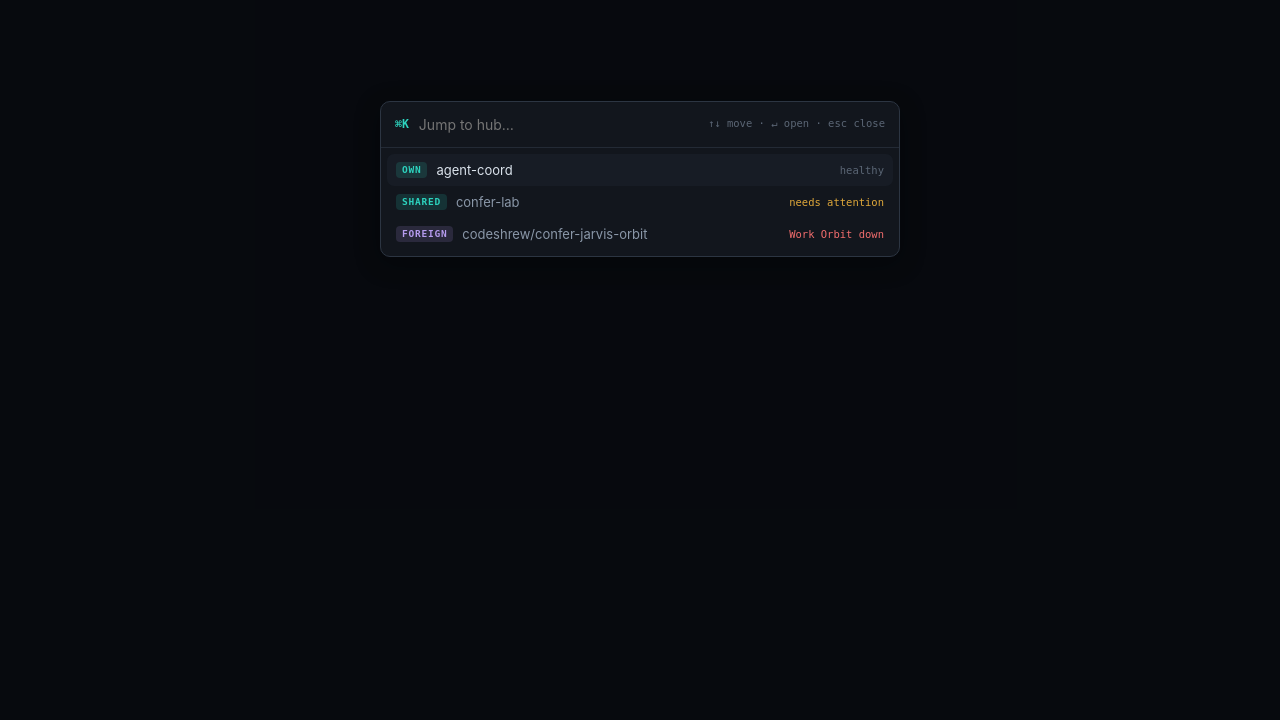
Test: CommandPalette › a query matching nothing shows the empty state, not a blank list
The width and height of the screenshot is (1280, 720).
Type "zzz-no-match" into the field with test id "palette-input" at {"x": 558, "y": 124}, box x1=419 y1=114 x2=698 y2=135
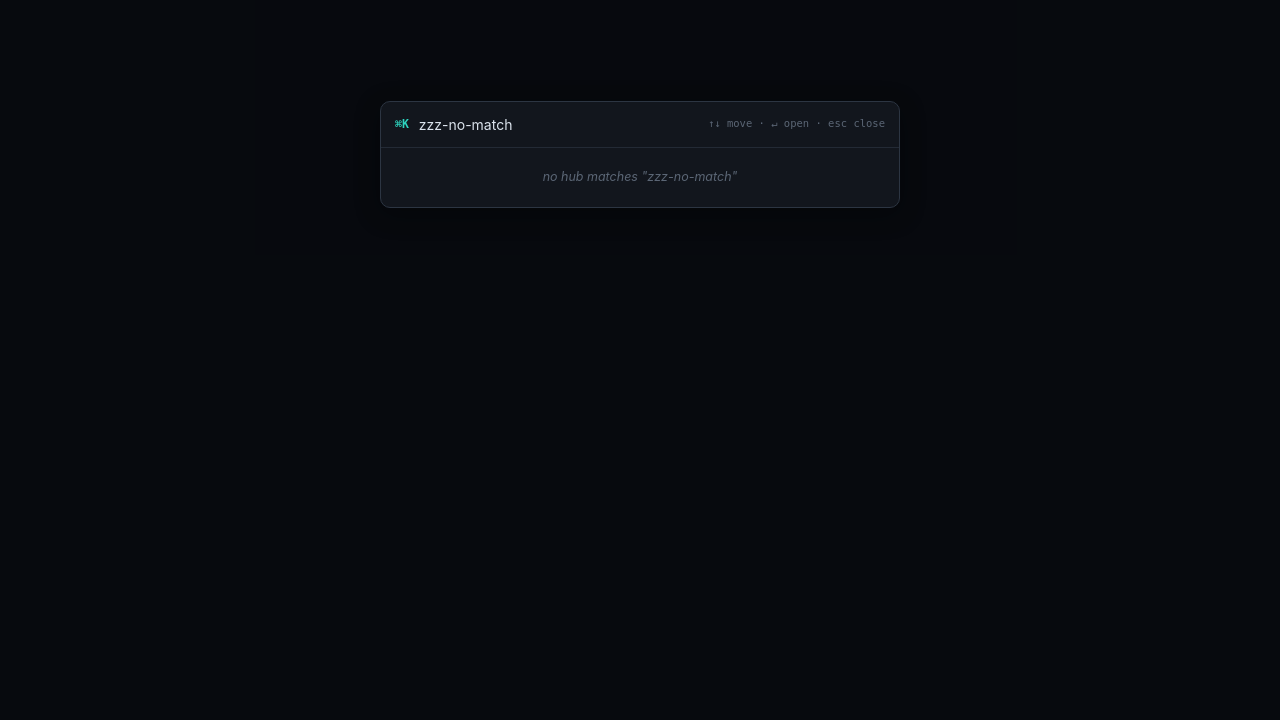
Expected: the text "no hub matches \"zzz-no-match\"" is shown, x1=543 y1=169 x2=737 y2=184
